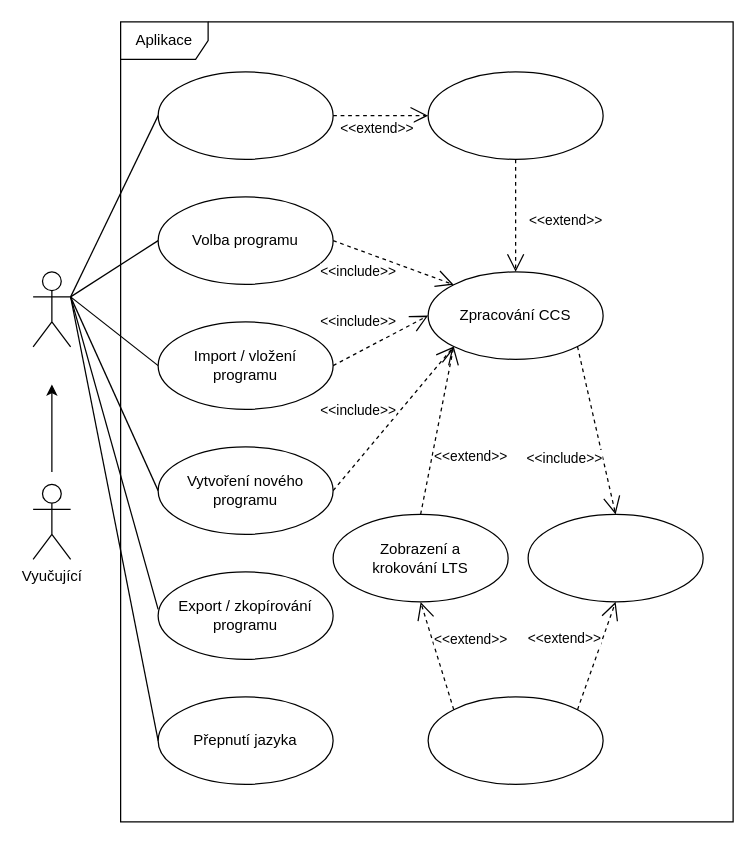
Some shapes in this 755 by 844 pixel diagram are drawn without their labels. The centre of each missing label's shape, as x and y in pixels:
"Dokazování přechodů" goes at pixel 515 115.
"Export grafů jako obrázky" goes at pixel 515 740.
"Student" goes at pixel 51 309.
"Zobrazení AST" goes at pixel 615 557.
"Zobrazení nápovědy" goes at pixel 245 115.
